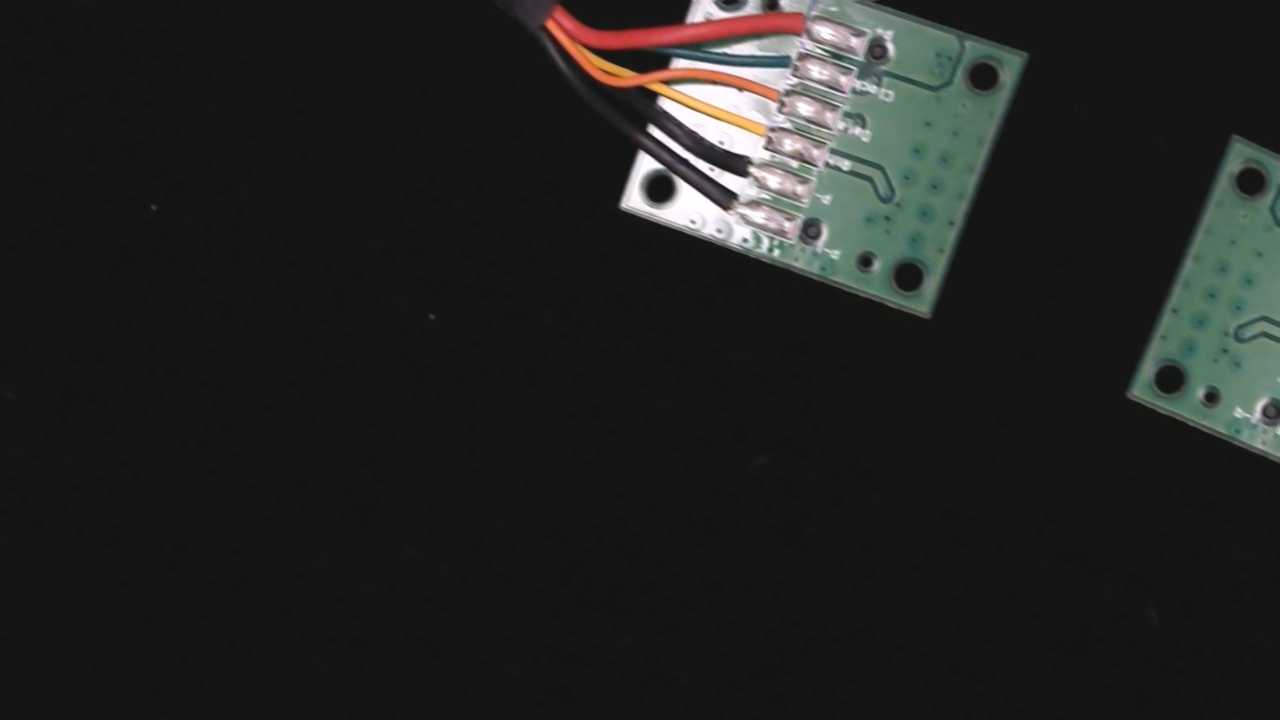Black: (703, 138, 778, 191)
Black1: (690, 174, 765, 229)
Green: (748, 30, 819, 85)
Orange: (730, 66, 809, 122)
Red: (755, 0, 833, 46)
Yellow: (713, 98, 794, 157)
